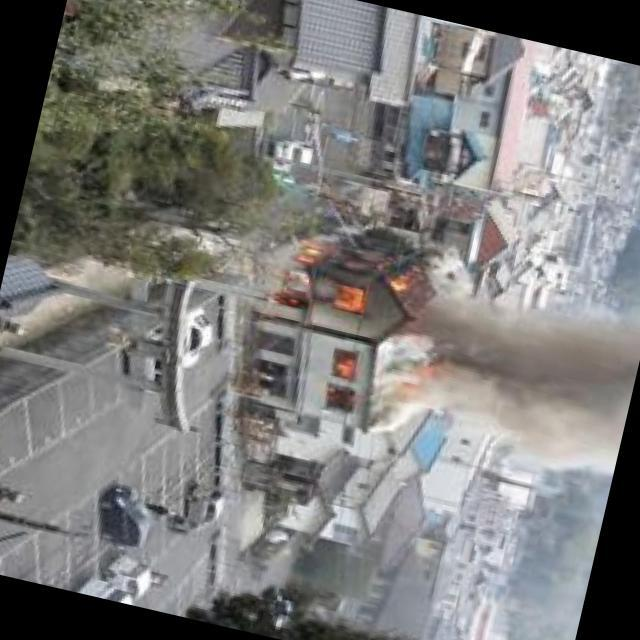Fire: (271, 226, 417, 330), (333, 344, 365, 388)
